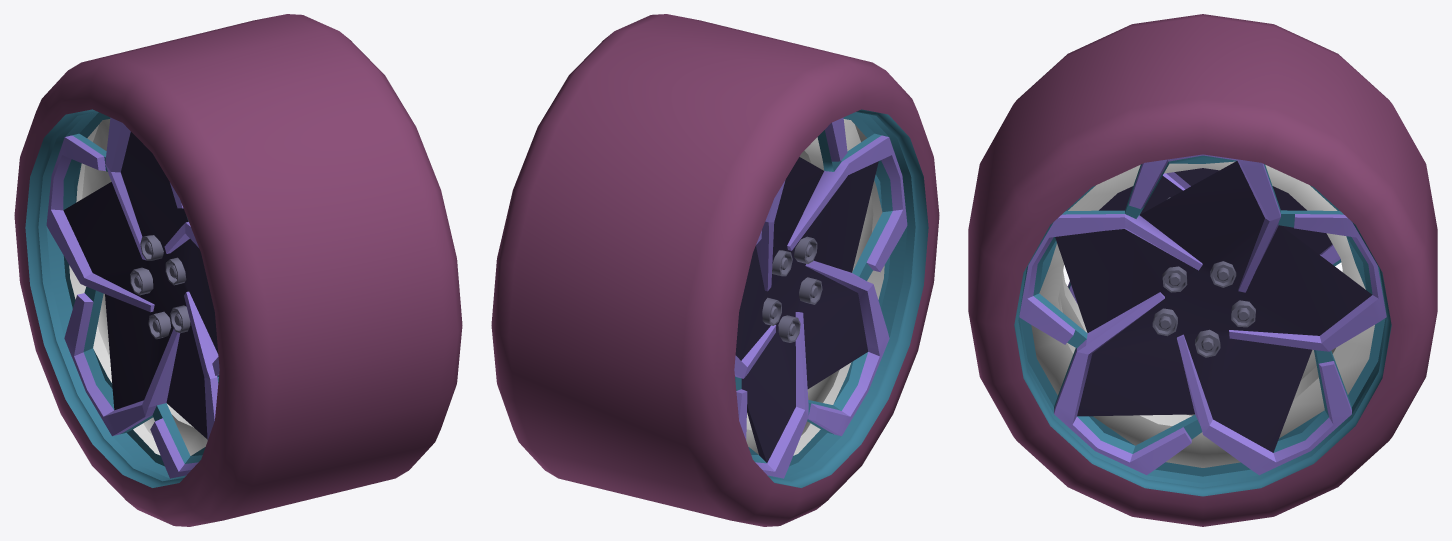
Rendered from Wheel02.fbx.
3 views of the same model, side by side, from view 1: azimuth 30°, elevation 25°; view 2: azimuth 150°, elevation 25°; view 3: azimuth 270°, elevation 25° (orthographic). The views are drawn at different scales.
Parts seen in each view (by area): view 1: Wheel_Low.02; view 2: Wheel_Low.02; view 3: Wheel_Low.02.
Part boxes in pixels (box(x1,y1,x2,y2)): Wheel_Low.02: box(14, 14, 462, 526); Wheel_Low.02: box(491, 14, 939, 526); Wheel_Low.02: box(968, 14, 1437, 526).
Bounding box in the file's own units: 37.99 × 68.51 × 68.51.
